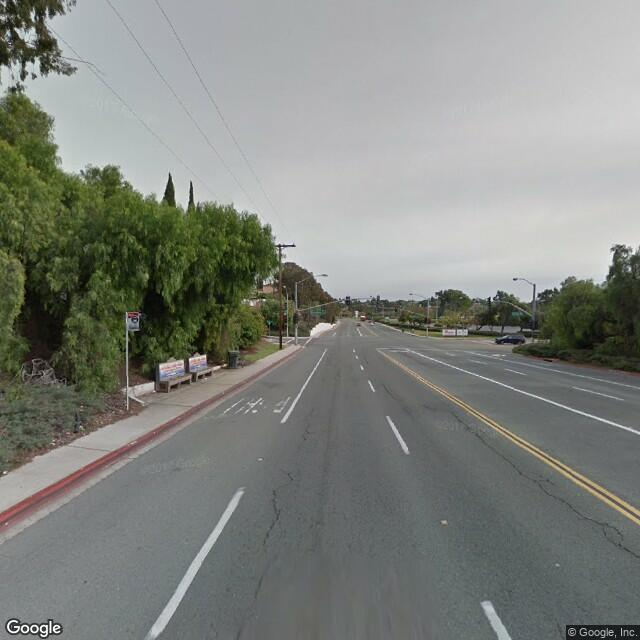litter: (73, 425, 89, 434)
